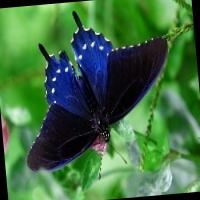butterfly: (26, 12, 168, 171)
